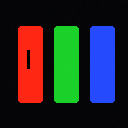4 line_v: (27, 50, 29, 68)
